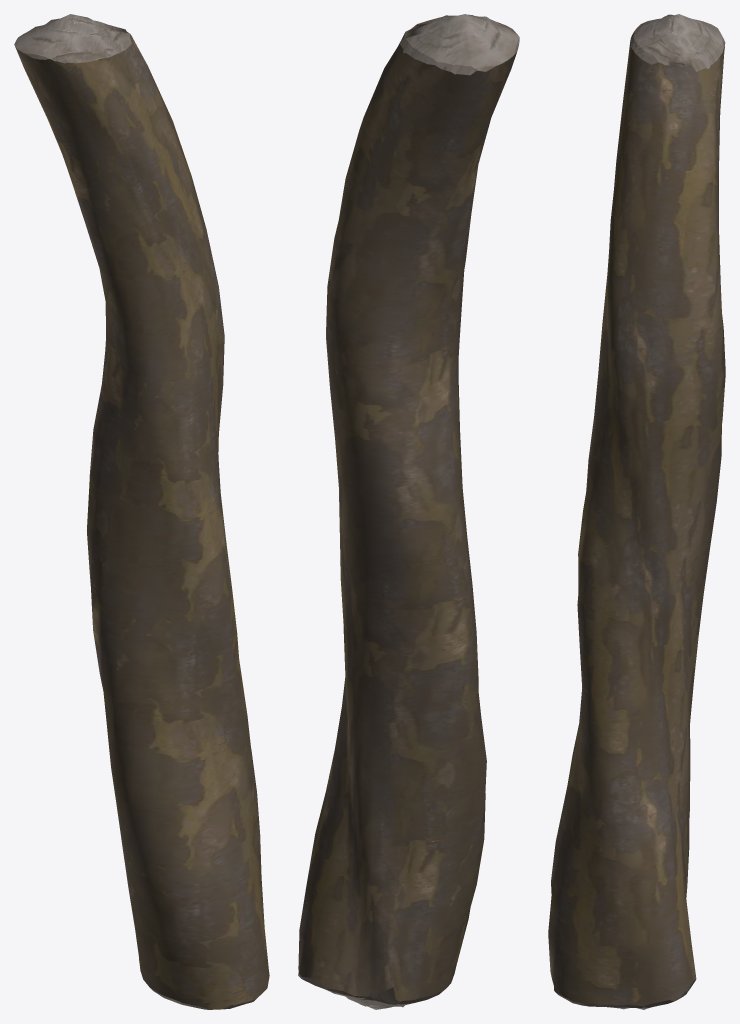
The picture shows the model from 3 angles, left to right: view 1: azimuth 30°, elevation 25°; view 2: azimuth 150°, elevation 25°; view 3: azimuth 270°, elevation 25°; orthographic projection. The views are drawn at different scales.
Visible parts, largest first — view 1: SM_Yew_02_tree_quarters_top_LOD0; view 2: SM_Yew_02_tree_quarters_top_LOD0; view 3: SM_Yew_02_tree_quarters_top_LOD0.
Part boxes in pixels (x1=…): SM_Yew_02_tree_quarters_top_LOD0: x1=14, y1=14, x2=269, y2=1009; SM_Yew_02_tree_quarters_top_LOD0: x1=298, y1=14, x2=519, y2=1009; SM_Yew_02_tree_quarters_top_LOD0: x1=548, y1=14, x2=725, y2=1009.
Size of the model in its own units: 1.48 by 6.54 by 1.11.
Materials: 1 (1 with a texture image).
